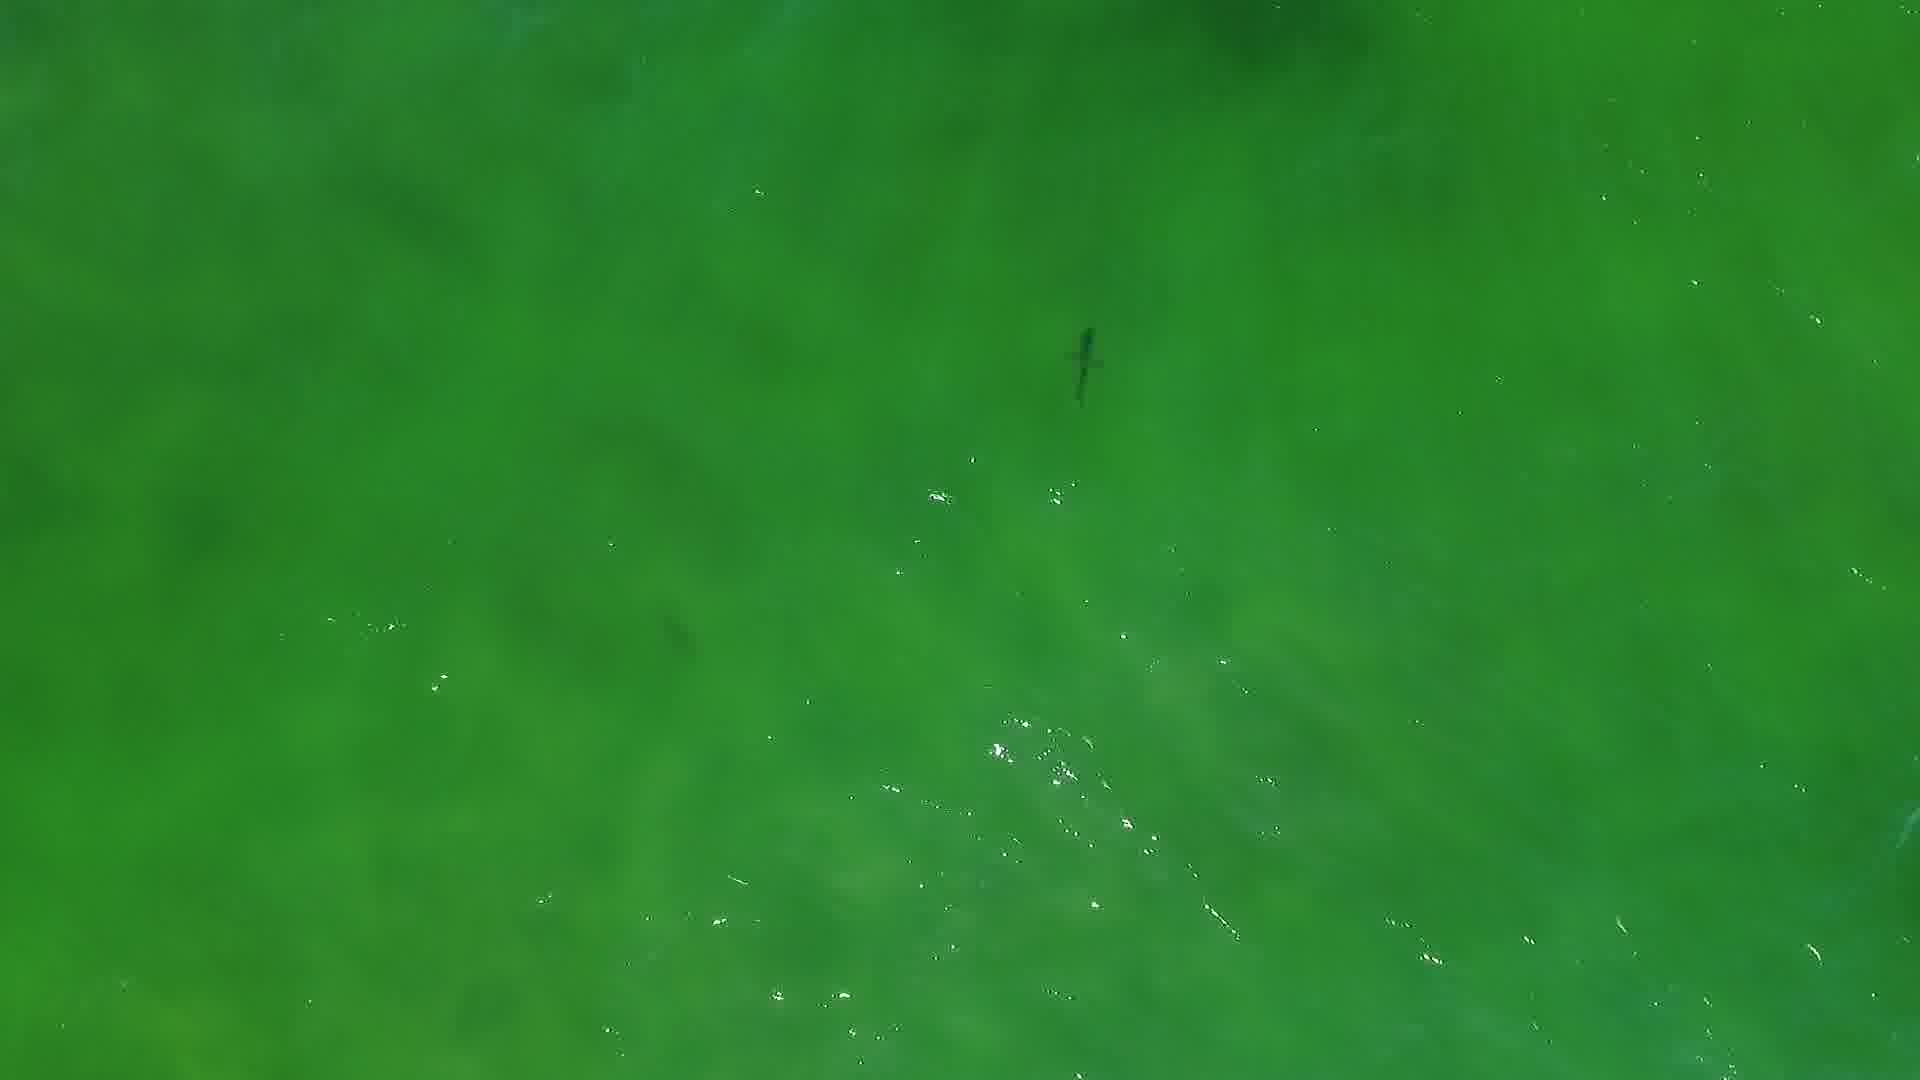shark: (1062, 319, 1109, 410)
